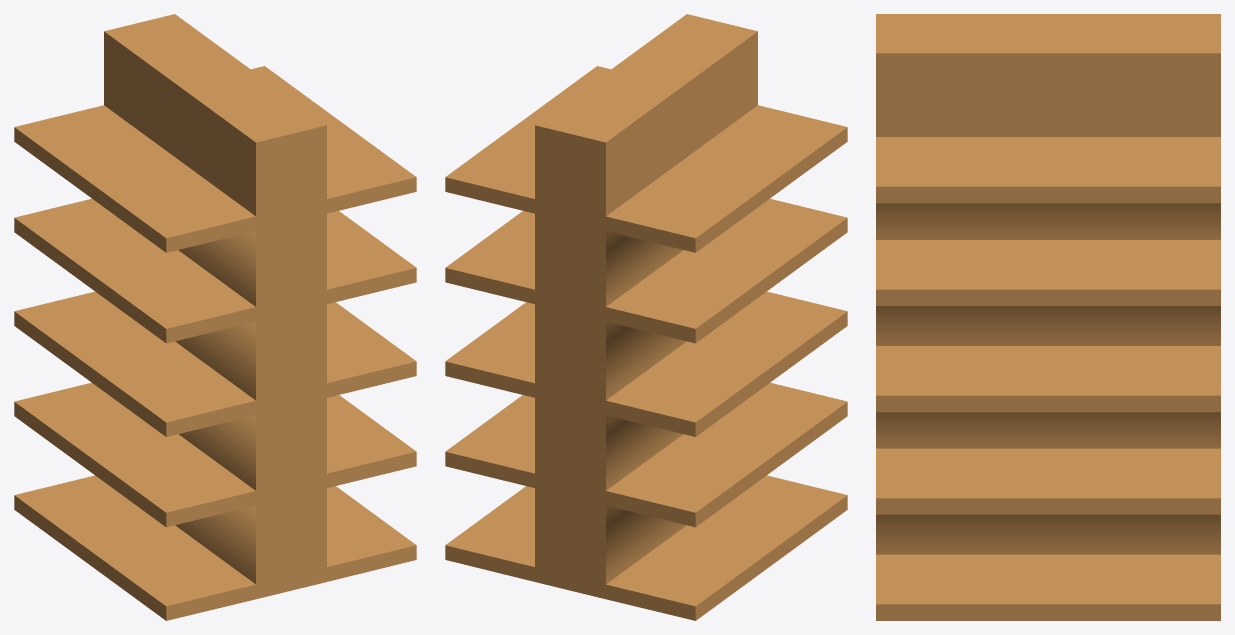
File: ShelfDouble.glb
The picture shows the model from 3 angles, left to right: view 1: azimuth 30°, elevation 25°; view 2: azimuth 150°, elevation 25°; view 3: azimuth 270°, elevation 25°; orthographic projection. The views are drawn at different scales.
Visible parts, largest first — view 1: Double Shelf; view 2: Double Shelf; view 3: Double Shelf.
Boxes of the visible parts, x1,y1,x2,y2 form: Double Shelf: (14,14,416,620); Double Shelf: (445,14,847,620); Double Shelf: (876,14,1220,620).
Size of the model in its own units: 1.19 by 2.07 by 1.25.
